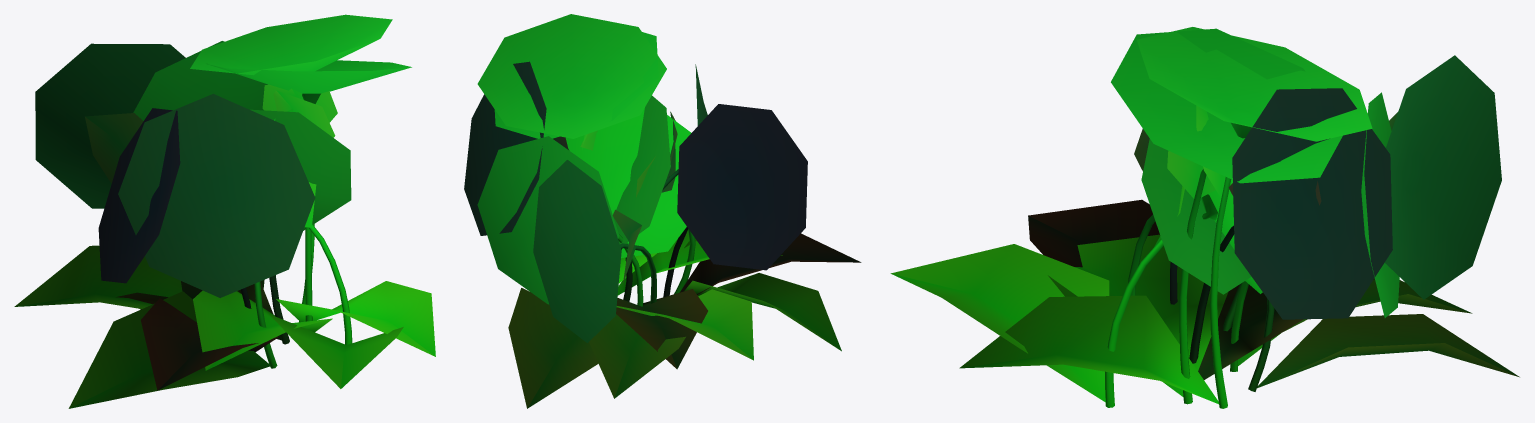
The model's file is mv_FlowerE.fbx.
The picture shows the model from 3 angles, left to right: view 1: azimuth 30°, elevation 25°; view 2: azimuth 150°, elevation 25°; view 3: azimuth 270°, elevation 25°; orthographic projection. The views are drawn at different scales.
Visible parts, largest first — view 1: FlowerE_LOD0; view 2: FlowerE_LOD0; view 3: FlowerE_LOD0.
Boxes of the visible parts, x1=… form: FlowerE_LOD0: x1=14, y1=14, x2=435, y2=408; FlowerE_LOD0: x1=464, y1=14, x2=861, y2=408; FlowerE_LOD0: x1=890, y1=27, x2=1519, y2=408.
Size of what is drawn, in the model's own units: 20.14 by 15.16 by 24.03.
